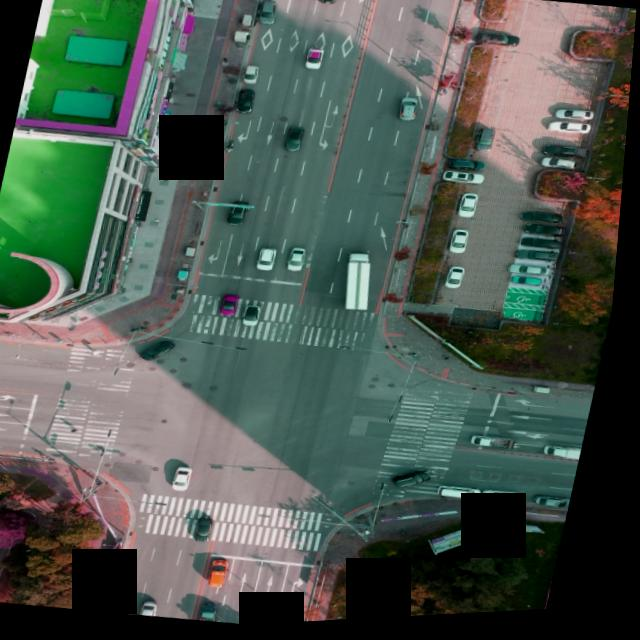car: (396, 471, 447, 497), (472, 34, 521, 56), (543, 147, 593, 167), (520, 213, 568, 233), (147, 338, 182, 365), (446, 160, 491, 180), (214, 560, 240, 593), (458, 196, 486, 225), (548, 125, 593, 143), (446, 173, 489, 191), (178, 466, 203, 496), (523, 241, 565, 258), (519, 253, 561, 270), (451, 233, 476, 261), (474, 131, 499, 159), (231, 204, 256, 230), (448, 489, 488, 505), (557, 114, 599, 129), (235, 89, 258, 116), (201, 518, 224, 545), (540, 501, 578, 517), (491, 494, 529, 510), (542, 160, 580, 176), (556, 113, 596, 128), (399, 100, 422, 125), (260, 249, 283, 274), (526, 228, 567, 242), (286, 128, 308, 154), (291, 251, 314, 275), (257, 3, 278, 28), (223, 296, 245, 319), (513, 270, 549, 284), (304, 50, 326, 72), (246, 308, 267, 331), (449, 271, 470, 293), (514, 281, 548, 294), (243, 68, 260, 88), (151, 602, 170, 619), (318, 0, 341, 7), (0, 437, 6, 453)
medium_truck: (340, 250, 384, 318)
small_truck: (476, 437, 527, 460), (549, 450, 590, 469)
